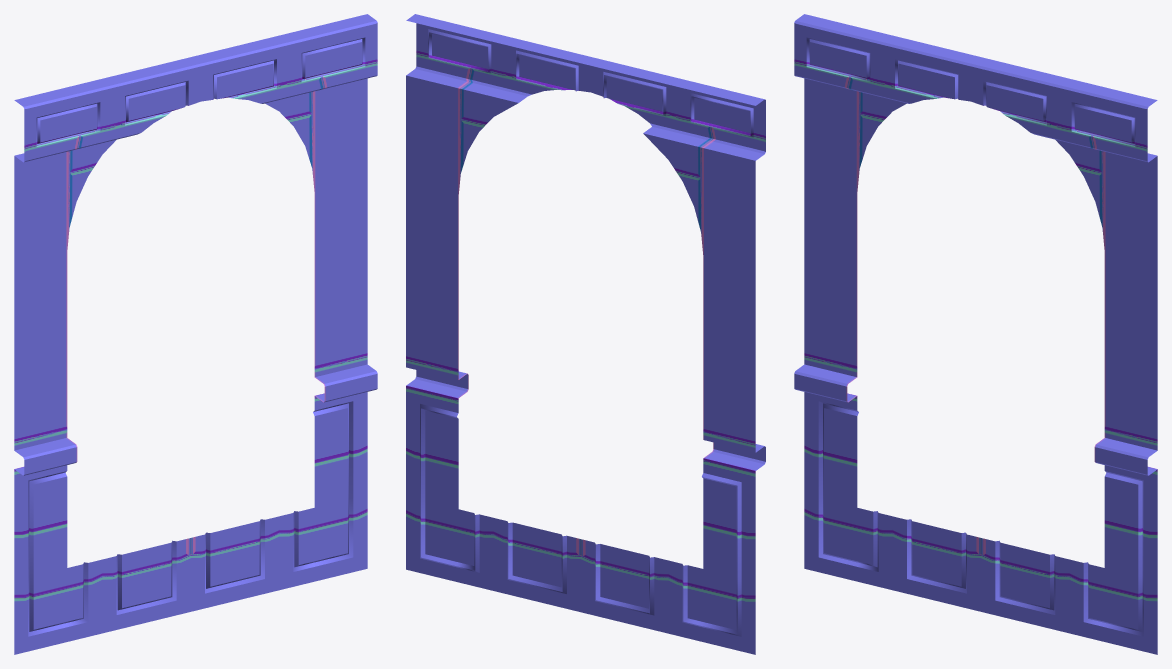
The model's file is Foyer Window Frame.fbx.
3 views of the same model, side by side, from view 1: azimuth 30°, elevation 25°; view 2: azimuth 150°, elevation 25°; view 3: azimuth 330°, elevation 25° (orthographic).
Visible parts, largest first — view 1: Normal_Wall12; view 2: Normal_Wall12; view 3: Normal_Wall12.
Boxes of the visible parts, x1,y1,x2,y2 form: Normal_Wall12: (14, 14, 377, 654); Normal_Wall12: (406, 14, 765, 654); Normal_Wall12: (794, 14, 1157, 654).
Size of the model in its own units: 200 by 300 by 11.67.
